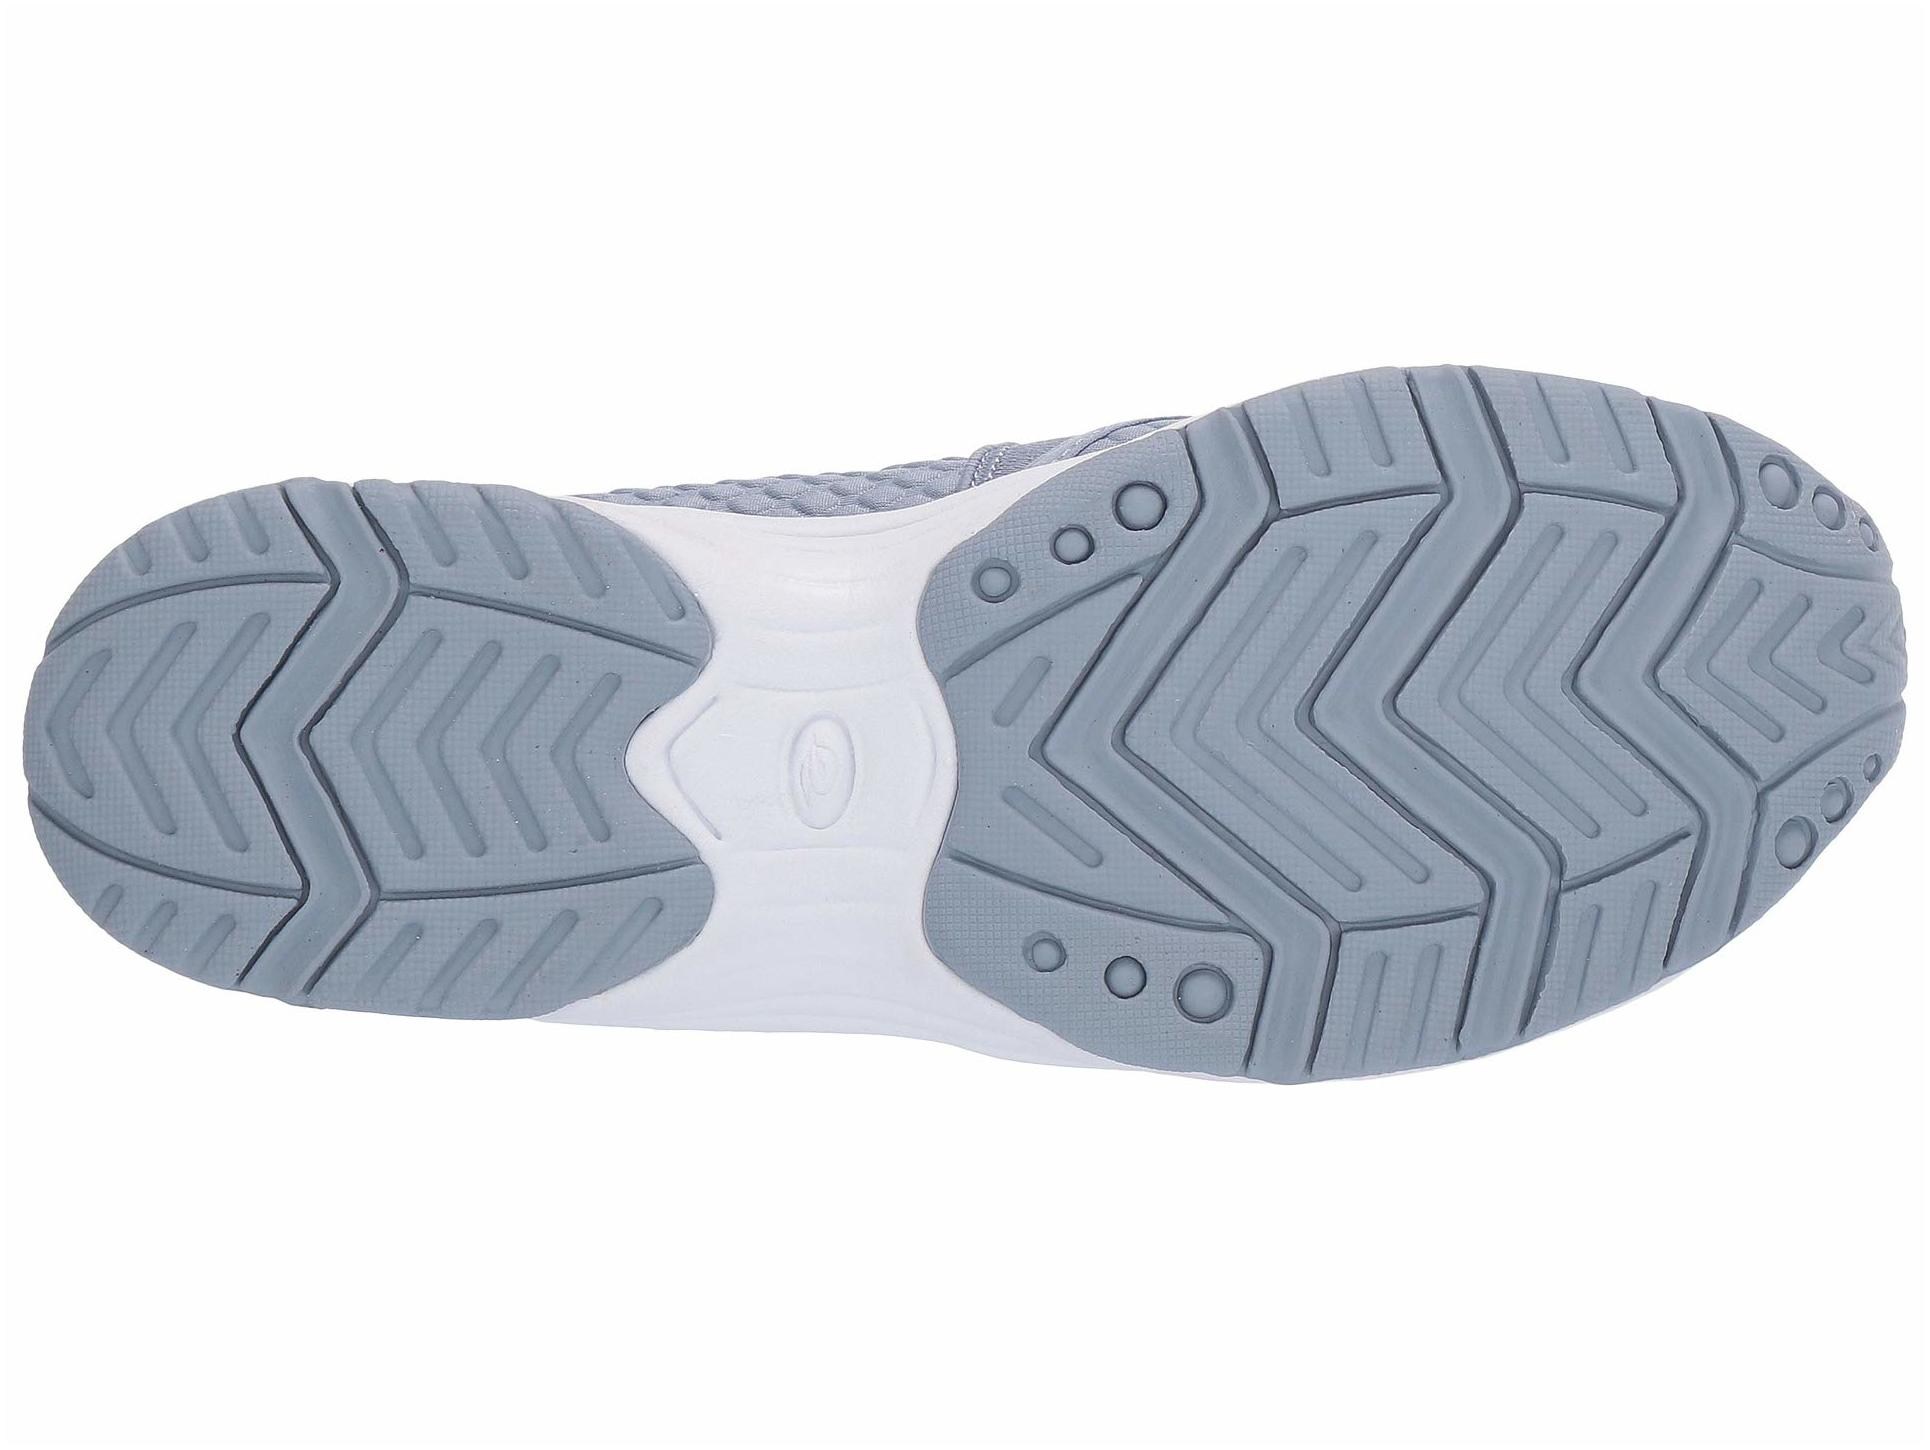chevron: (70, 545, 649, 897), (1216, 493, 1665, 929), (1695, 571, 1884, 762)
circle: (986, 925, 1255, 1027), (778, 714, 868, 842), (1759, 803, 1819, 873), (1747, 446, 1801, 522)
